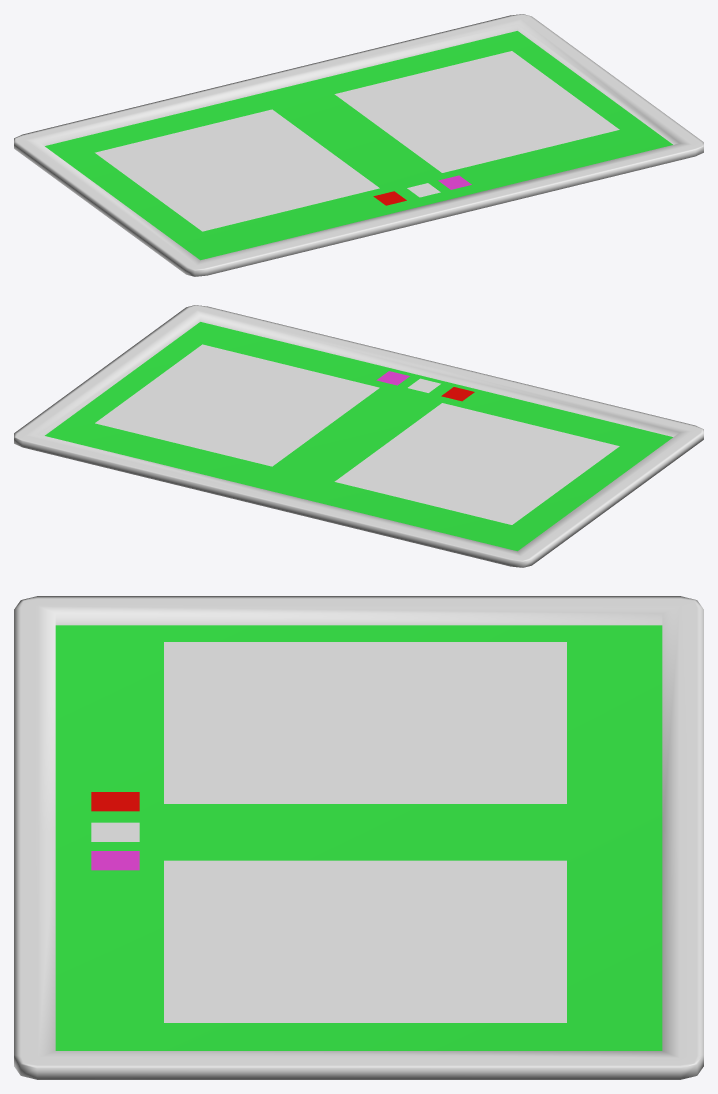
Rendered from Herd.fbx.
The picture shows the model from 3 angles, top to bottom: view 1: azimuth 30°, elevation 25°; view 2: azimuth 150°, elevation 25°; view 3: azimuth 270°, elevation 25°; orthographic projection. The views are drawn at different scales.
Parts seen in each view (by area): view 1: Cube.018; view 2: Cube.018; view 3: Cube.018.
Boxes of the visible parts, x1,y1,x2,y2 form: Cube.018: [14, 14, 703, 276]; Cube.018: [14, 305, 703, 567]; Cube.018: [14, 596, 703, 1079].
Bounding box in the file's own units: 217 × 2.56 × 134.
